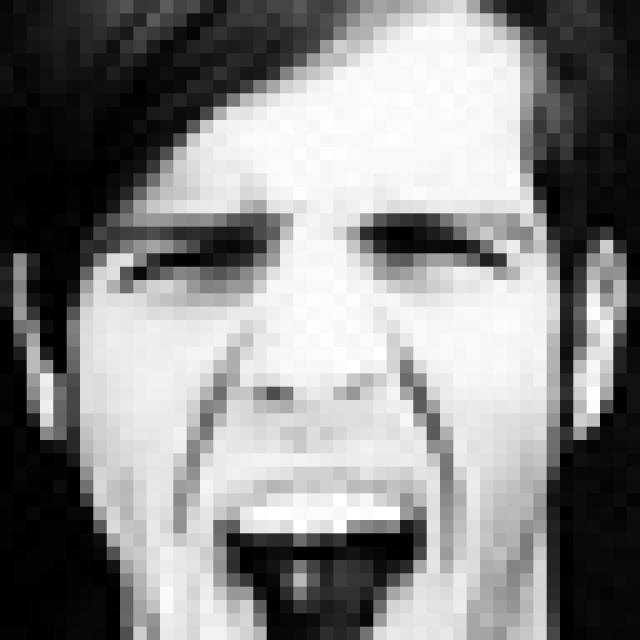angry: (85, 197, 536, 640)
